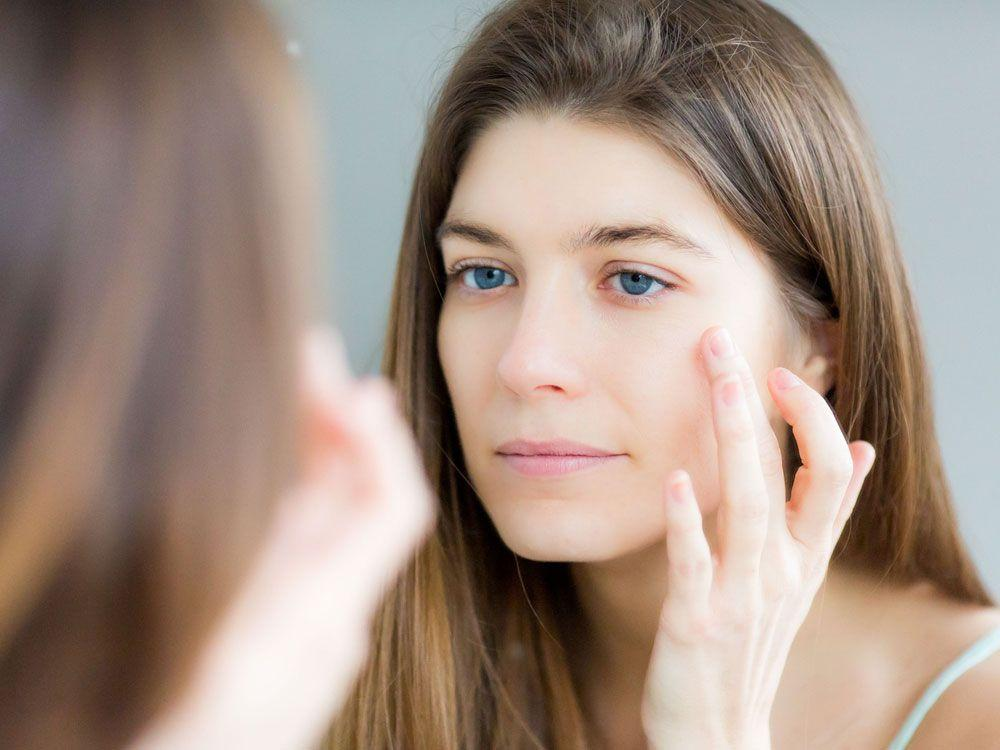Oily-Skin: (580, 324, 698, 418), (482, 158, 624, 212)
